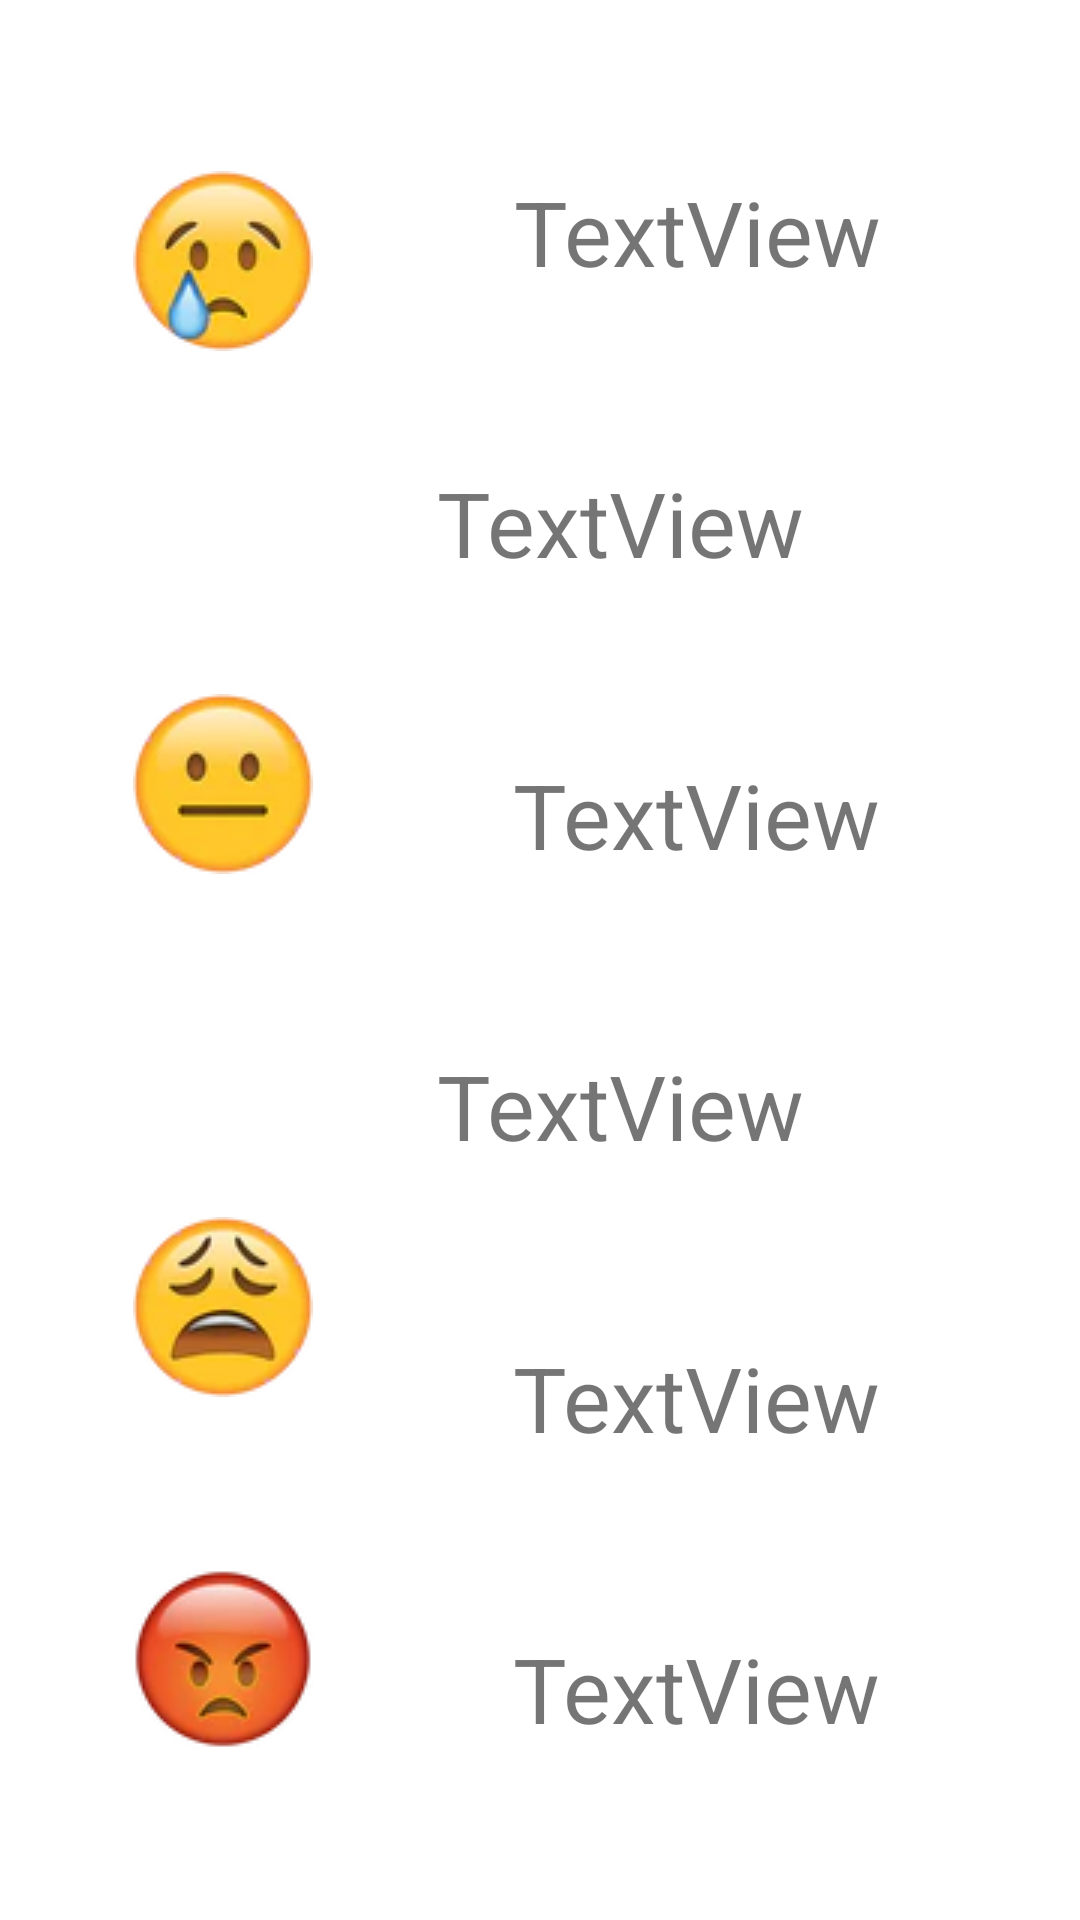

Where icons sit on this 1080px x 1920px app screen, as (x1, y1, x2, y2):
crying face emoji: (133, 171, 313, 351)
neutral face emoji: (133, 694, 313, 874)
tired face emoji: (133, 1217, 313, 1397)
very angry emoji: (135, 1571, 311, 1747)
